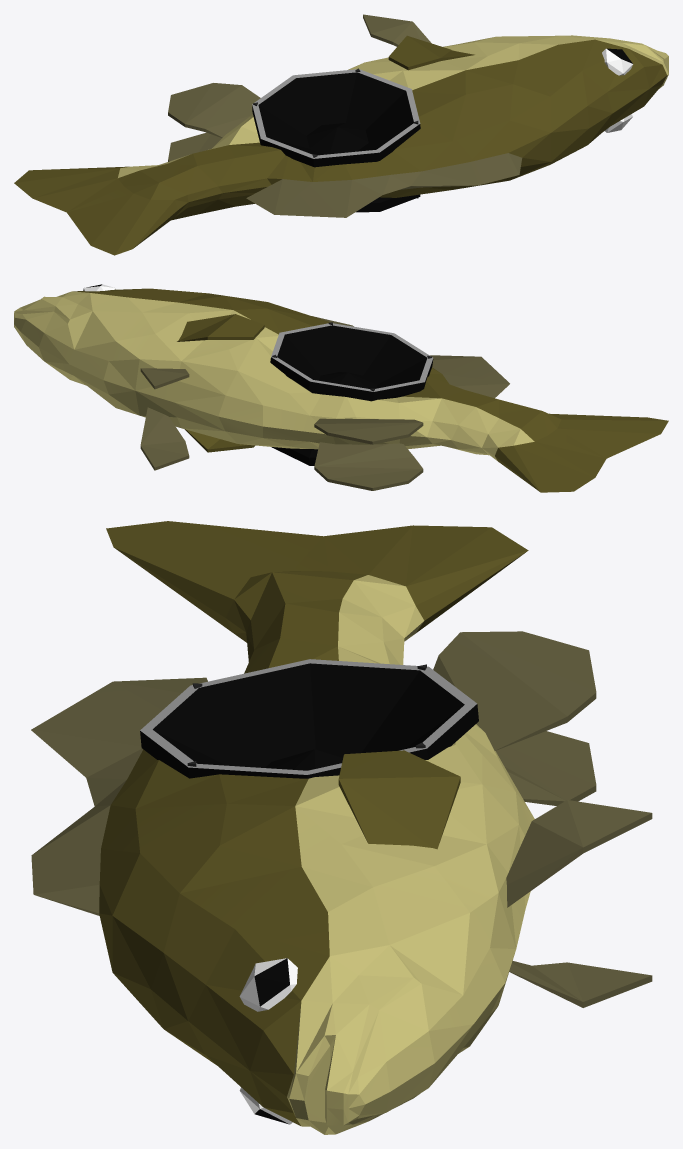
Rendered from BassDrip.glb.
3 renders of one model, top to bottom at view 1: azimuth 30°, elevation 25°; view 2: azimuth 150°, elevation 25°; view 3: azimuth 270°, elevation 25°, orthographic. The views are drawn at different scales.
Visible parts, largest first — view 1: BassDrip; view 2: BassDrip; view 3: BassDrip.
Part boxes in pixels (x1,y1,x2,y2): BassDrip: [14, 14, 668, 255]; BassDrip: [14, 284, 668, 492]; BassDrip: [31, 521, 652, 1134].
Bounding box in the file's own units: 0.9227 × 0.1691 × 0.4118.
Materials: 1 (1 with a texture image).
